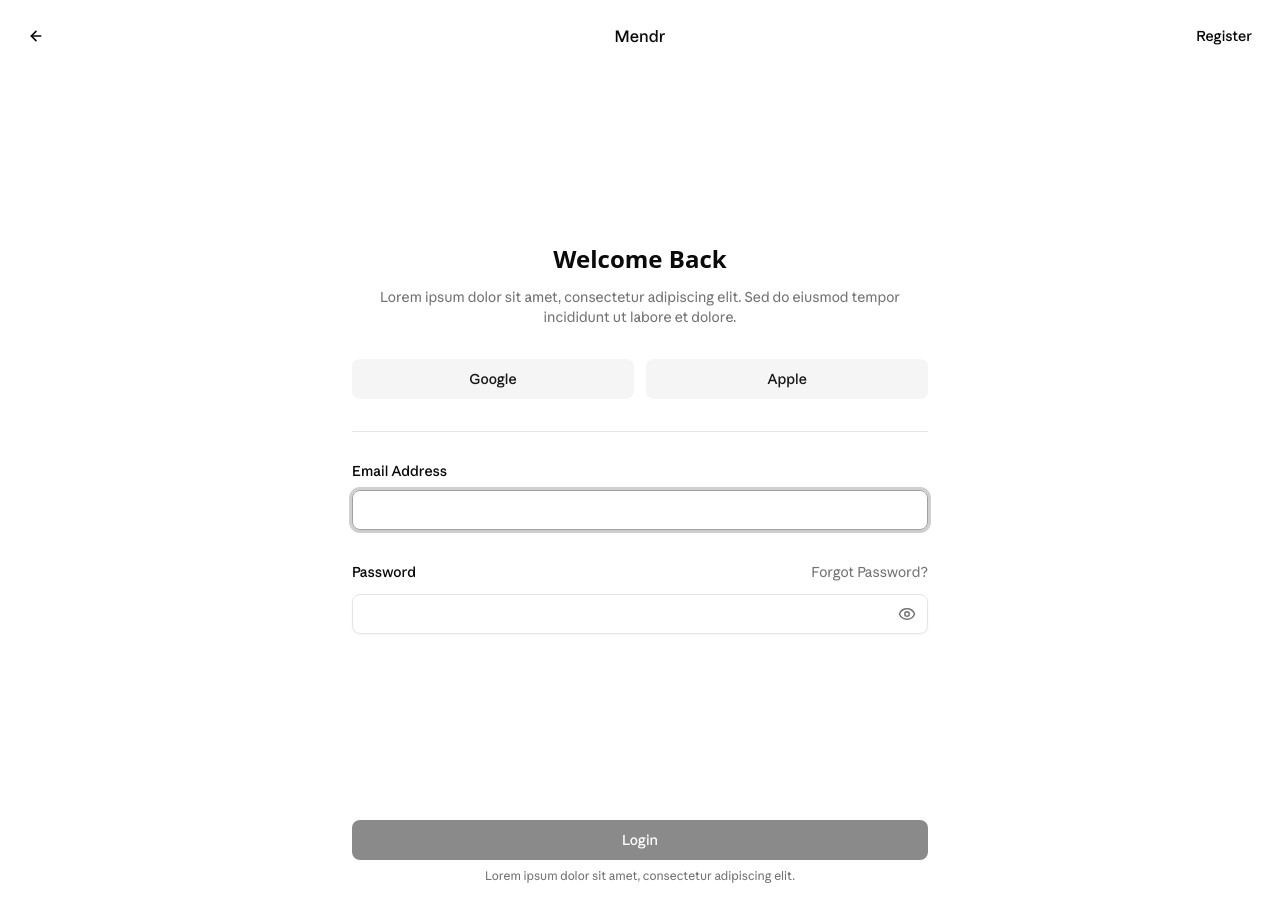
auth/login/client.tsx › submit button is enabled with valid email and password >= 6 chars
In the field labelled "Email Address": (640, 510) [352,490,928,530], type "user@example.com"
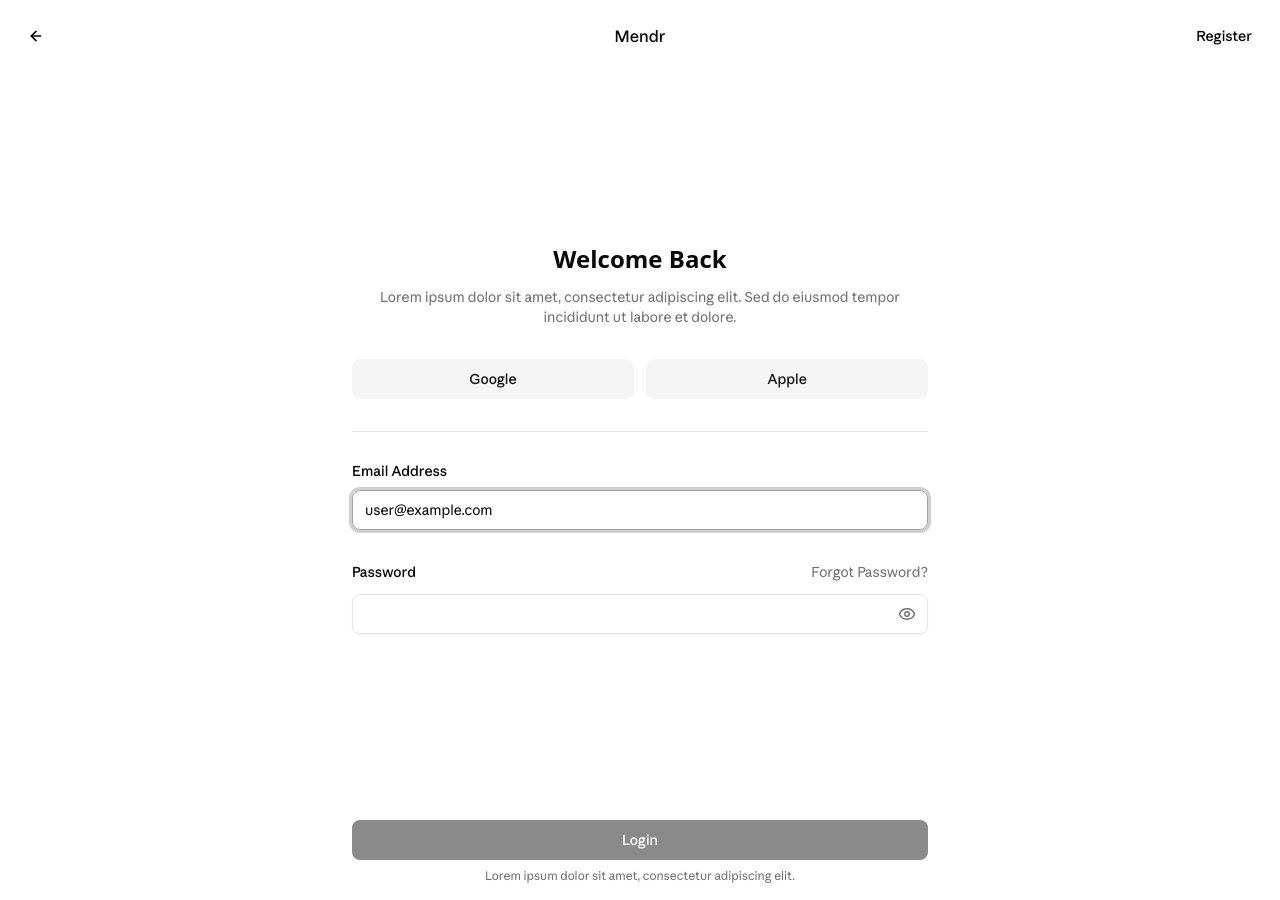
In the password field labelled "Password": (640, 614) [352,594,928,634], type "secret1"
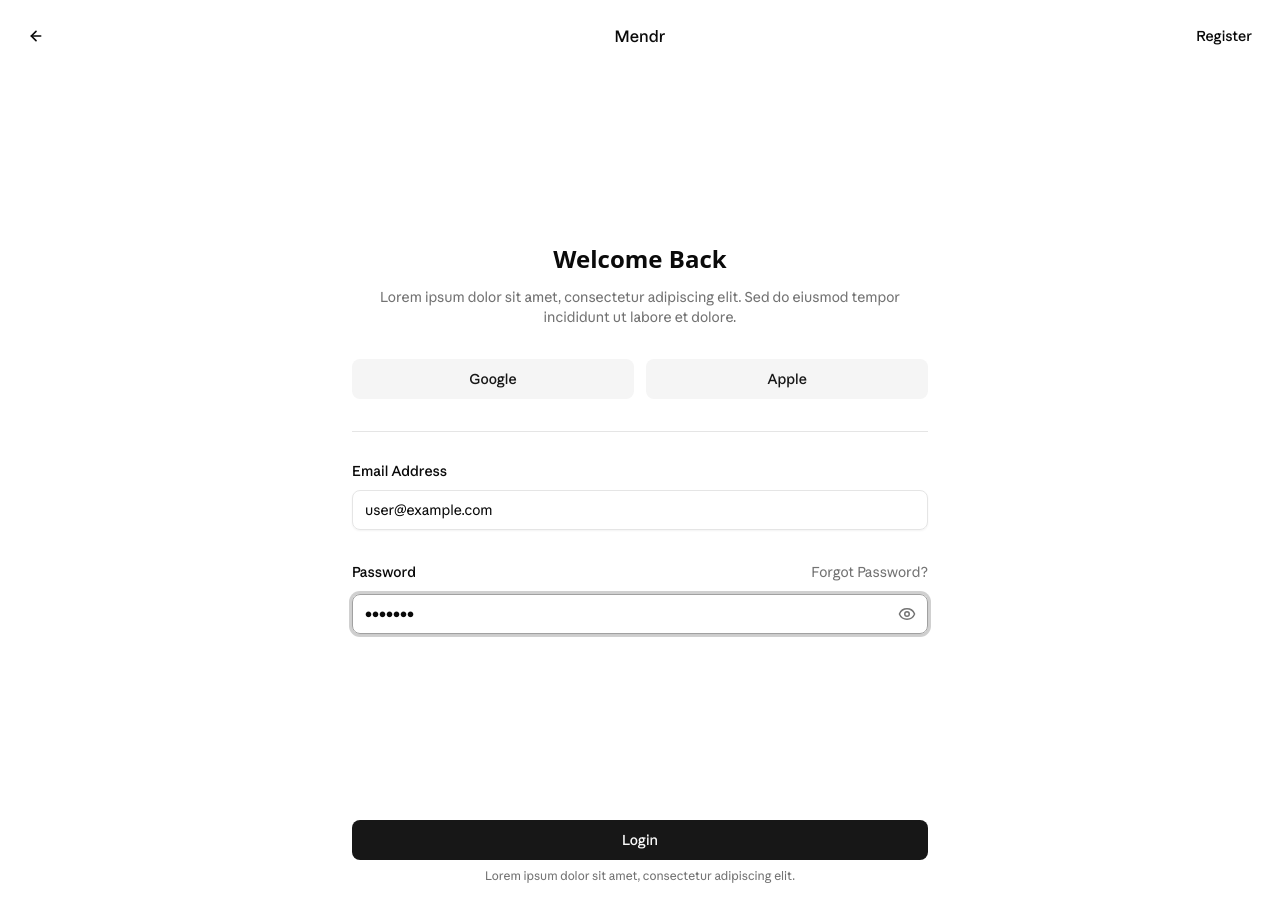
Expected: the button "Login" is enabled, [352,820,928,860]
